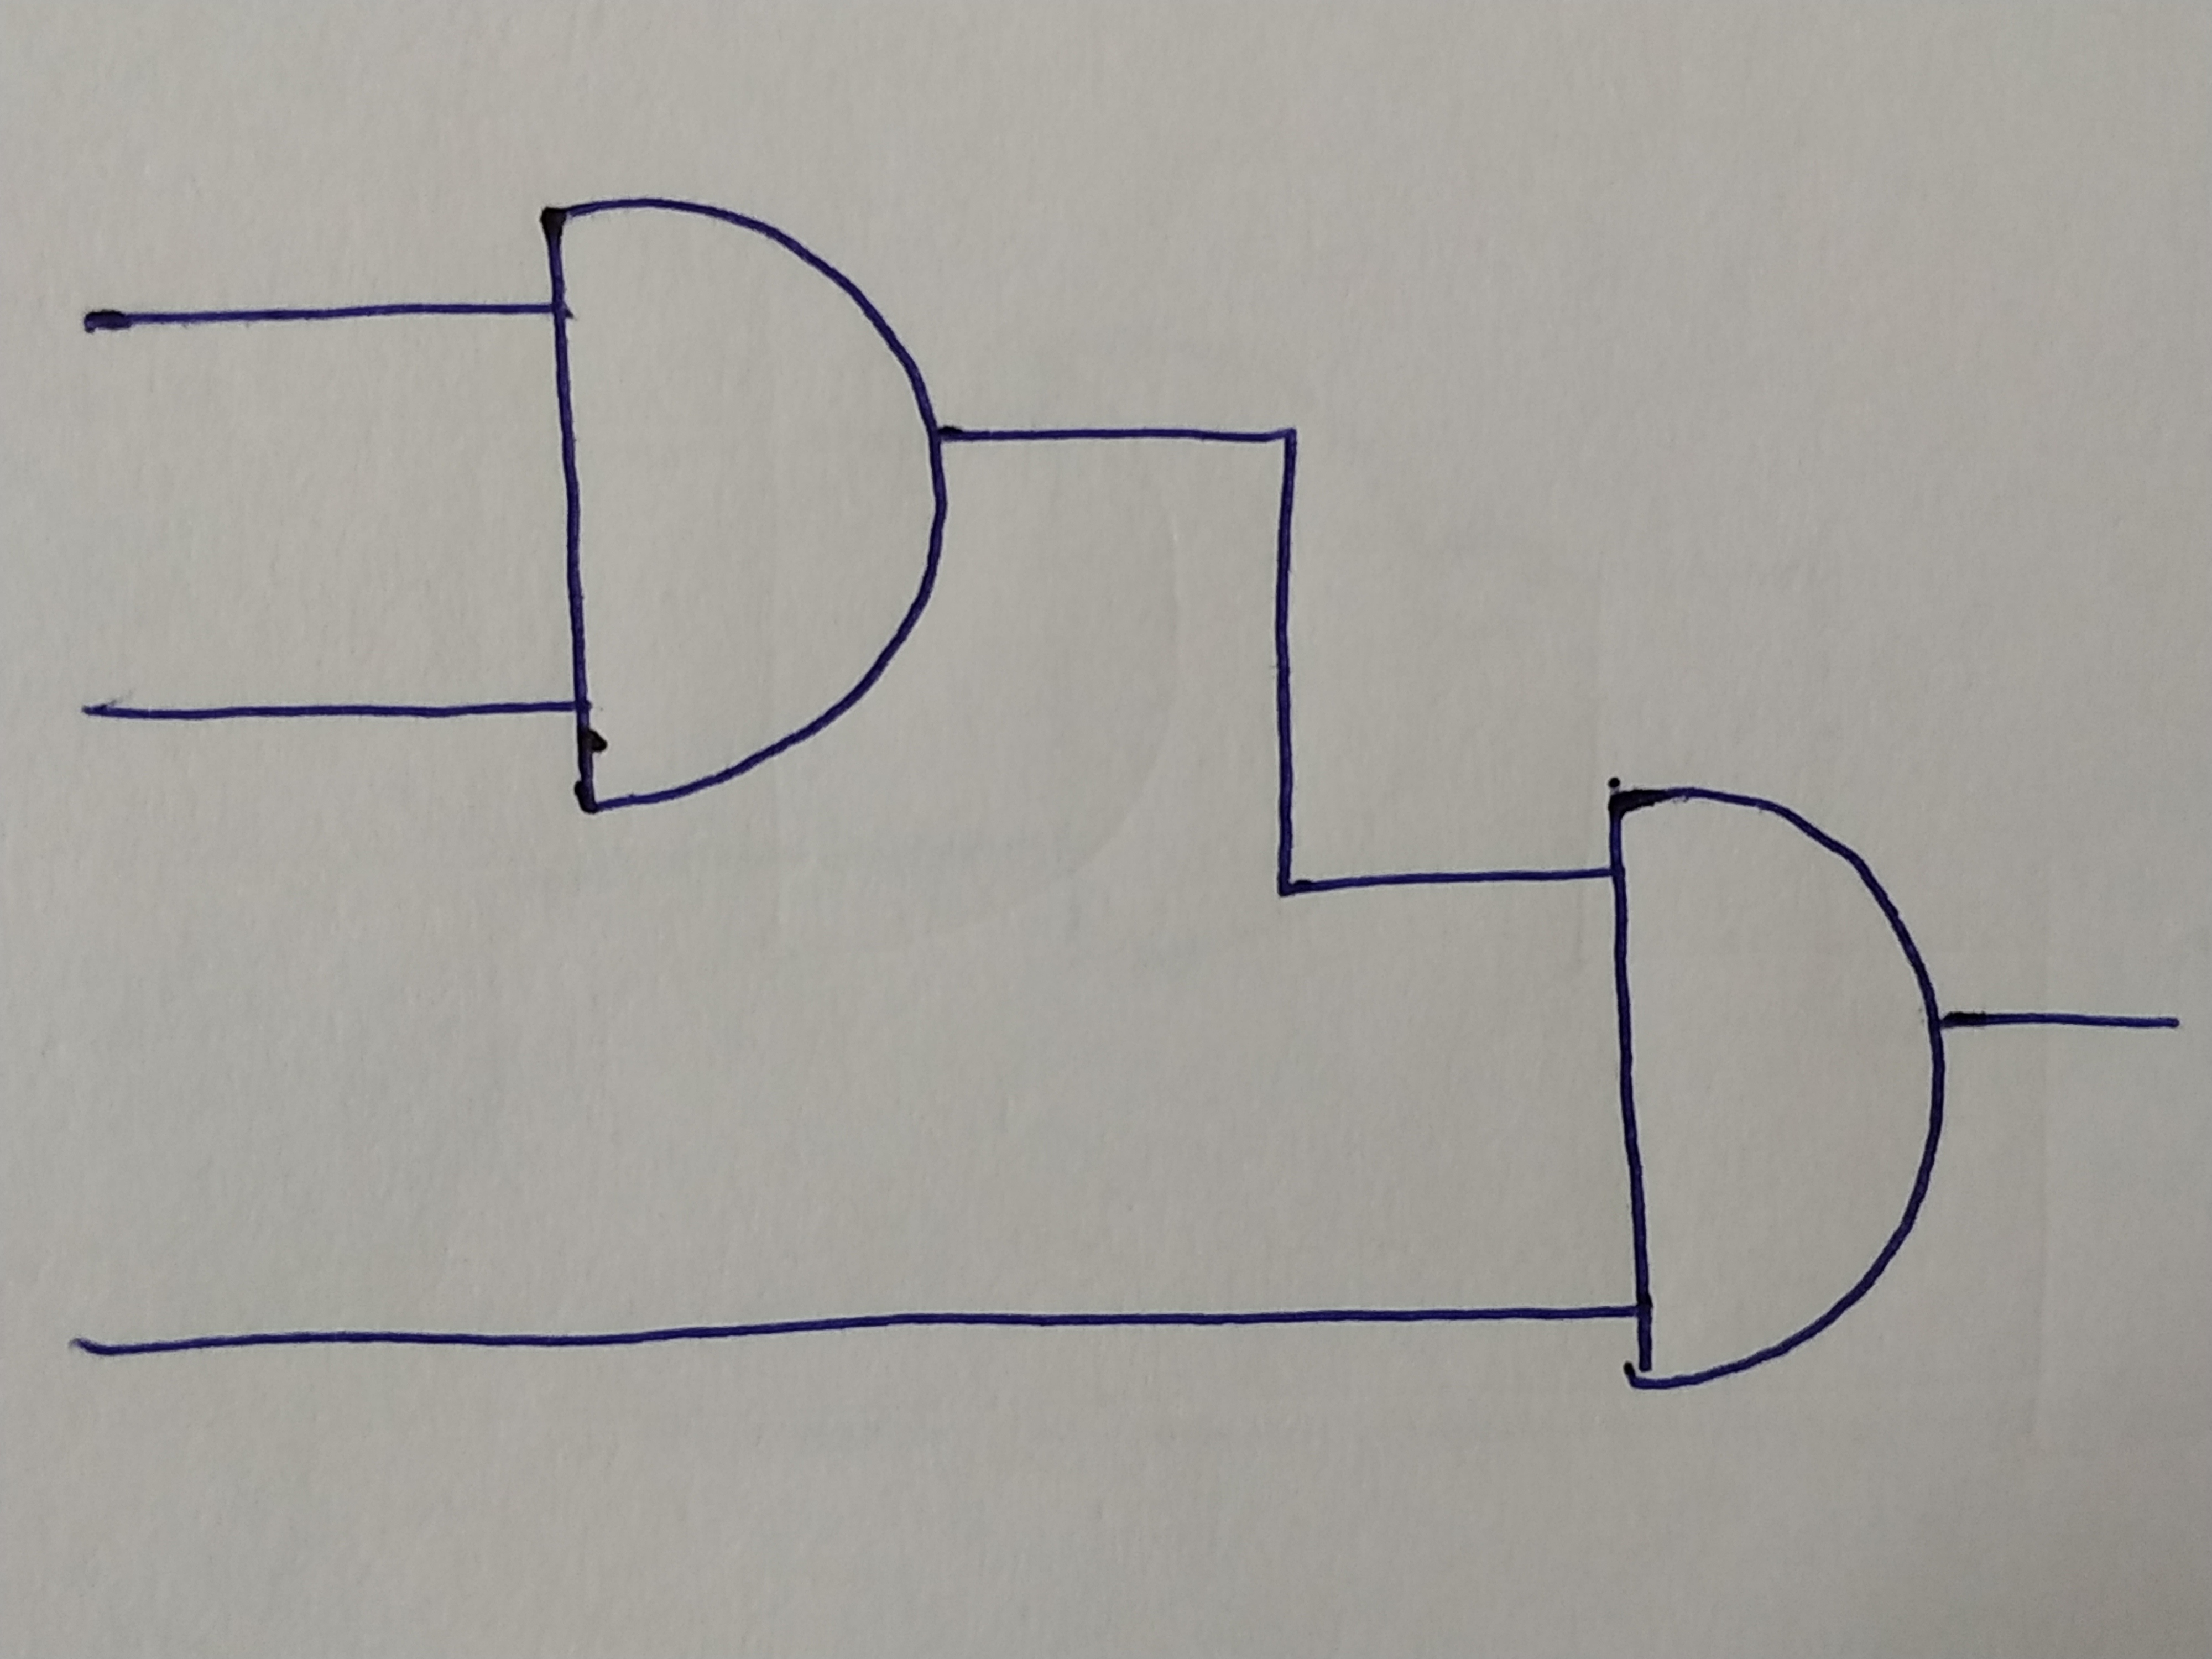and: (540, 192, 944, 817), (1604, 789, 1946, 1387)
